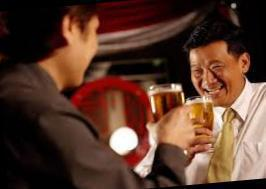Drunk: (189, 50, 238, 101)
